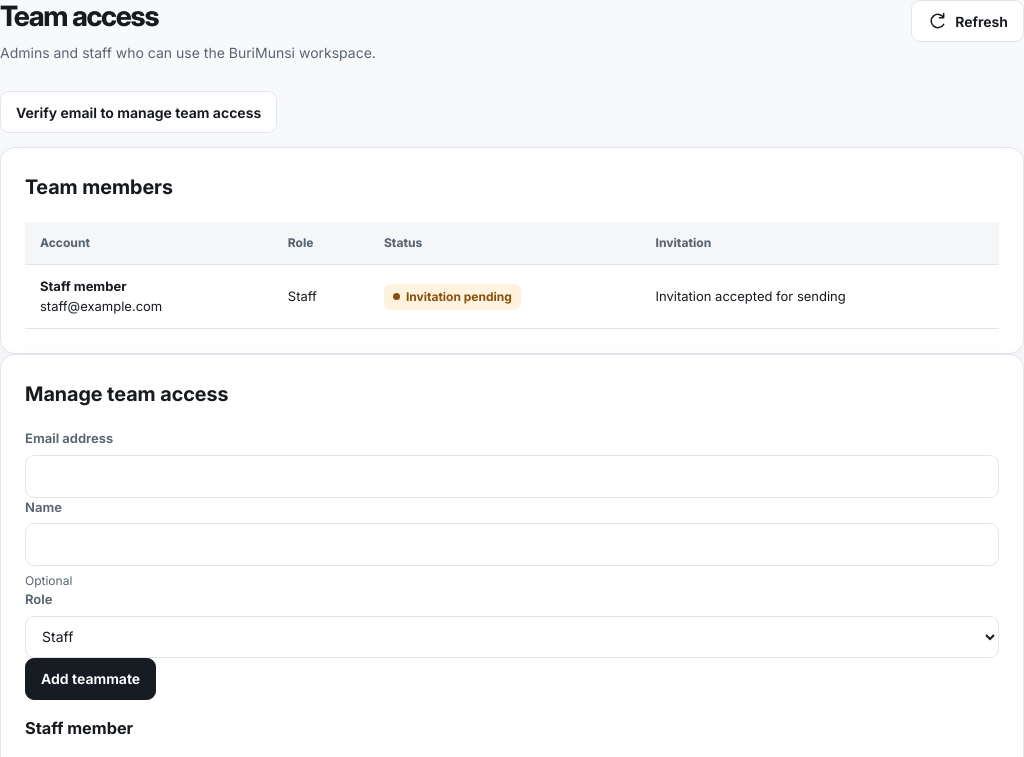
Test case: team management controls › removes older rows and controls when a refreshed directory fails
Check: the row "staff@example.com" is shown, box [25,264,999,328]
Click the button "Refresh".
click(968, 21)  # box [911,0,1023,42]
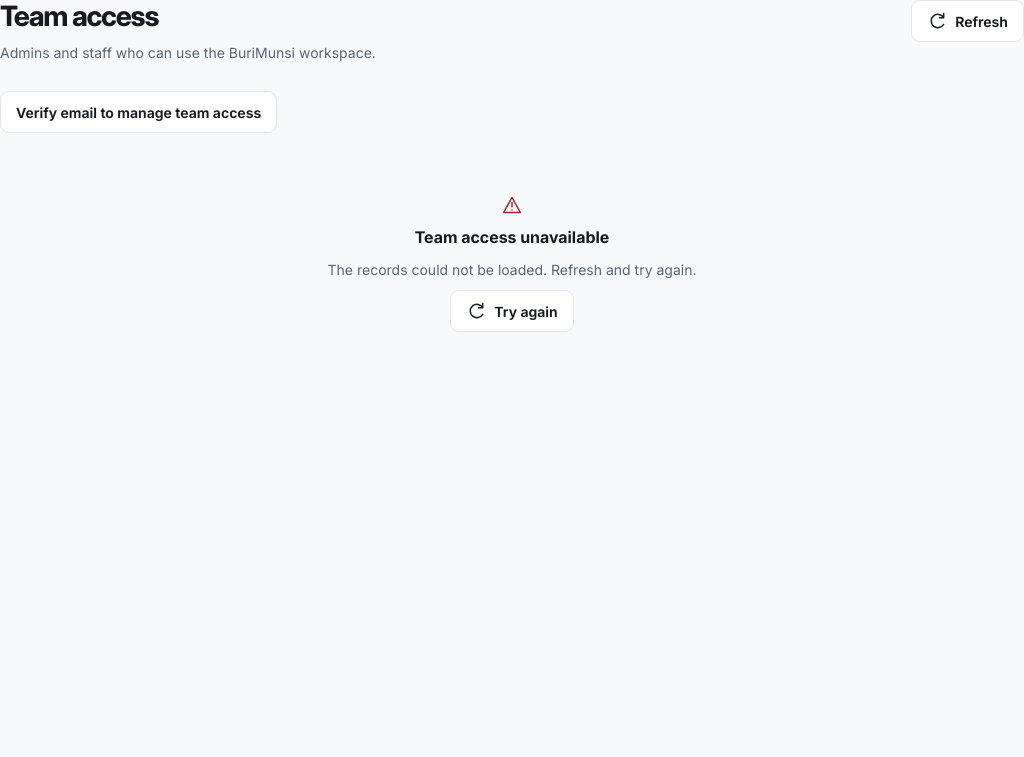
Check: the heading "Team access unavailable" is shown, box [415,225,609,249]
Check: the text "staff@example.com" is gone
Check: the button "Add teammate" is gone
